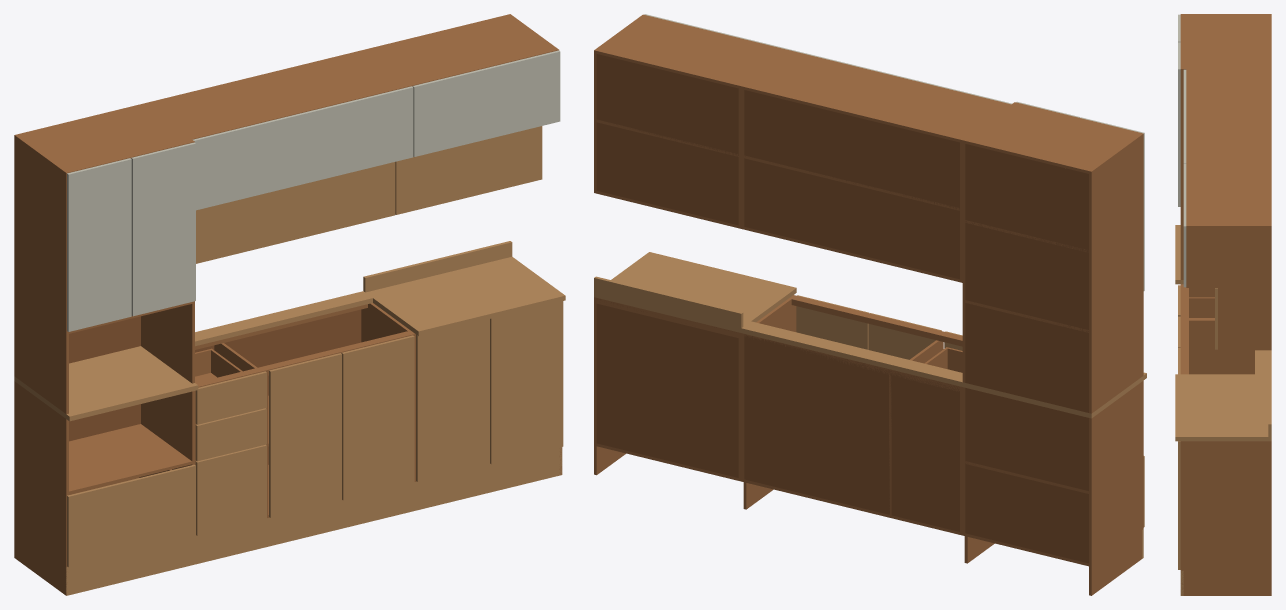
Rendered from cozinha_homestyler.obj.
3 views of the same model, side by side, from view 1: azimuth 30°, elevation 25°; view 2: azimuth 150°, elevation 25°; view 3: azimuth 270°, elevation 25° (orthographic). The views are drawn at different scales.
Parts seen in each view (by area): view 1: Porta_aereo_superior_120, Rodape_frontal, Torre_alta_lateral_0, Porta_balcao_central_E, Porta_balcao_central_D, Porta_aereo_inferior_120, Porta_balcao_direita_E, Porta_balcao_direita_D, Porta_aereo_superior_80, Aereo_120_topo, Porta_torre_2, Porta_torre_1 (+23 smaller); view 2: Balcao_120_fundo, Torre_alta_fundo, Aereo_120_fundo, Balcao_80_fundo, Aereo_80_fundo, Torre_fundo, Torre_alta_lateral_0, Aereo_120_topo, Torre_lateral_E, Aereo_80_topo, Balcao_80_tampo_25mm, Torre_alta_topo (+15 smaller); view 3: Balcao_80_lateral_D, Aereo_120_topo, Balcao_80_tampo_25mm, Aereo_80_lateral_sup_2.685, Aereo_80_topo, Torre_alta_topo, Aereo_80_lateral_inf_2.685, Balcao_120_divisoria_gavetas, Rodape_direito, Torre_alta_lateral_0.685, Balcao_120_travessa_frontal, Gaveta_1_lateral_E (+11 smaller).
Part boxes in pixels (x1,y1,x2,y2): Porta_aereo_superior_120: (192,86,413,210); Rodape_frontal: (65,447,562,595); Torre_alta_lateral_0: (14,134,68,414); Porta_balcao_central_E: (269,353,341,517); Porta_balcao_central_D: (341,335,414,500); Porta_aereo_inferior_120: (196,162,395,263); Porta_balcao_direita_E: (416,319,489,481); Porta_balcao_direita_D: (490,301,563,464); Porta_aereo_superior_80: (412,50,560,156); Aereo_120_topo: (146,50,409,138); Porta_torre_2: (131,142,195,316); Porta_torre_1: (67,158,131,331); Balcao_120_fundo: (744,334,959,531); Torre_alta_fundo: (965,144,1088,412); Aereo_120_fundo: (744,90,959,279); Balcao_80_fundo: (596,298,738,477); Aereo_80_fundo: (596,54,738,225); Torre_fundo: (965,388,1088,563); Torre_alta_lateral_0: (1089,133,1143,413); Aereo_120_topo: (744,51,1008,142); Torre_lateral_E: (1089,381,1143,566); Aereo_80_topo: (596,15,787,88); Balcao_80_tampo_25mm: (594,252,796,332); Torre_alta_topo: (965,103,1140,173); Balcao_80_lateral_D: (1180,441,1271,570); Aereo_120_topo: (1186,70,1271,161); Balcao_80_tampo_25mm: (1175,374,1271,441); Aereo_80_lateral_sup_2.685: (1186,224,1271,287); Aereo_80_topo: (1186,164,1271,224); Torre_alta_topo: (1180,15,1271,67); Aereo_80_lateral_inf_2.685: (1218,288,1271,350); Balcao_120_divisoria_gavetas: (1189,319,1254,374); Rodape_direito: (1180,570,1271,595); Torre_alta_lateral_0.685: (1180,67,1271,279); Balcao_120_travessa_frontal: (1180,285,1188,374); Gaveta_1_lateral_E: (1189,297,1214,317).
Bounding box in the file's own units: 270 × 220 × 52.
